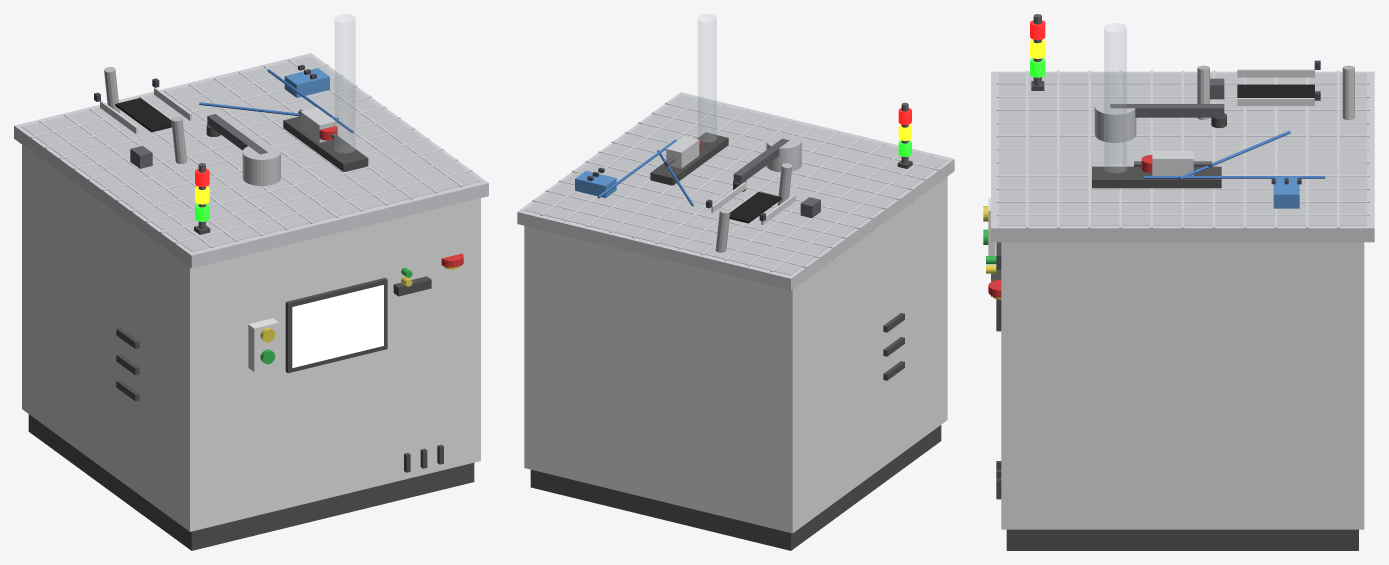
3 renders of one model, left to right at view 1: azimuth 30°, elevation 25°; view 2: azimuth 150°, elevation 25°; view 3: azimuth 270°, elevation 25°, orthographic. The views are drawn at different scales.
Parts seen in each view (by area): view 1: Cabinet, Plate_Center, Plate_Trim, Skirt, HMI_Screen, ST10_Mag_Tube, HMI_Border, ST10_Mag_Base, ST10_Arm_Pivot, Btn_Box, ST10_Belt_Surface, ST10_Valve_Terminal (+9 smaller); view 2: Cabinet, Plate_Center, Plate_Trim, Skirt, ST10_Mag_Tube, ST10_Mag_Base, ST10_Arm_Pivot, ST10_Belt_Surface, ST10_Push_Body, ST10_Arm_Beam, ST10_Valve_Terminal, ST10 (+3 smaller); view 3: Cabinet, Plate_Center, Plate_Trim, Skirt, ST10_Mag_Tube, ST10_Mag_Base, ST10_Arm_Pivot, ST10_Arm_Beam, ST10_Belt_Surface, ST10_Push_Body, ST10, Grid_Y_-5 (+19 smaller).
Part boxes in pixels (x1,y1,x2,y2): Cabinet: (22,145,480,531); Plate_Center: (22,56,481,251); Plate_Trim: (14,53,488,268); Skirt: (28,414,474,550); HMI_Screen: (292,285,383,367); ST10_Mag_Tube: (335,14,355,152); HMI_Border: (285,277,387,373); ST10_Mag_Base: (283,116,368,171); ST10_Arm_Pivot: (242,143,280,185); Btn_Box: (248,318,278,371); ST10_Belt_Surface: (115,98,171,132); ST10_Valve_Terminal: (284,68,329,97); Cabinet: (524,176,947,533); Plate_Center: (524,95,947,275); Plate_Trim: (517,92,954,290); Skirt: (530,425,941,550); ST10_Mag_Tube: (698,14,716,141); ST10_Mag_Base: (650,132,728,185); ST10_Arm_Pivot: (766,133,801,172); ST10_Belt_Surface: (729,192,781,223); ST10_Push_Body: (666,136,699,168); ST10_Arm_Beam: (733,138,789,183); ST10_Valve_Terminal: (575,170,616,198); ST10: (587,139,693,206); Cabinet: (1001,242,1364,529); Plate_Center: (999,73,1366,225); Plate_Trim: (991,71,1374,242); Skirt: (1006,529,1358,550); ST10_Mag_Tube: (1104,23,1126,173); ST10_Mag_Base: (1092,166,1221,188); ST10_Arm_Pivot: (1094,97,1136,142); ST10_Arm_Beam: (1110,104,1224,117); ST10_Belt_Surface: (1237,84,1314,97); ST10_Push_Body: (1152,150,1193,175); ST10: (1144,130,1325,184); Grid_Y_-5: (996,82,1369,84).
Size of the model in its own units: 0.7175 by 1.02 by 0.755.
